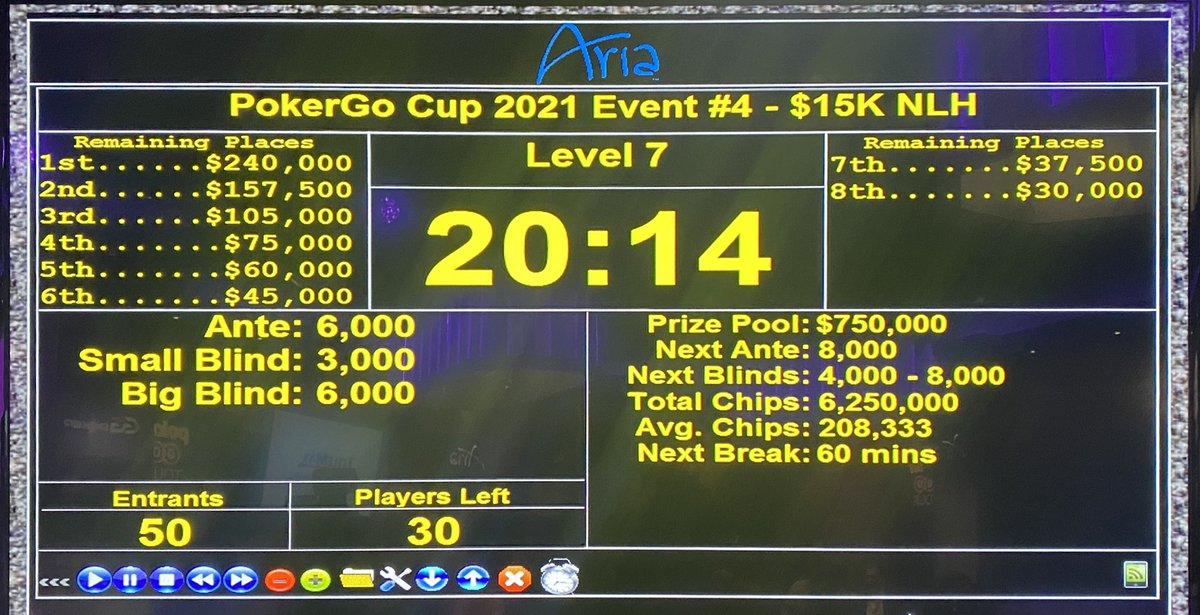PlayersLeft: (288, 478, 590, 549)
Remaining: (31, 127, 373, 313), (824, 130, 1161, 313)
TournamentClock: (31, 83, 1164, 553)
